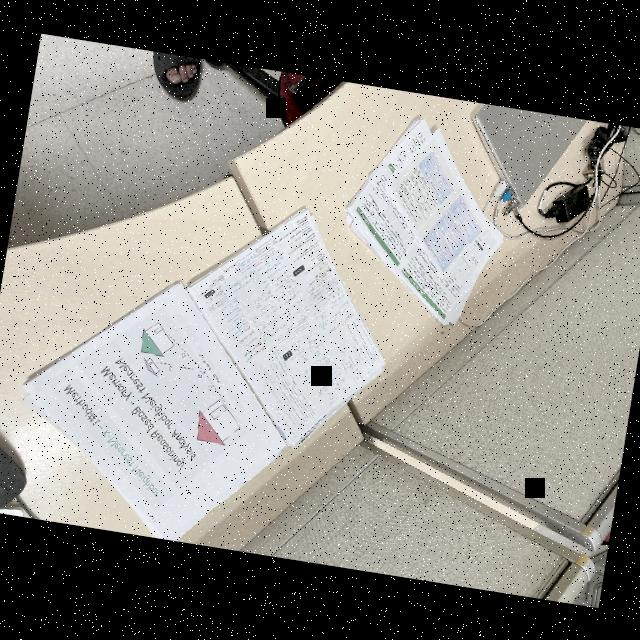reuseable_paper: (1, 167, 411, 568), (323, 102, 524, 344)
